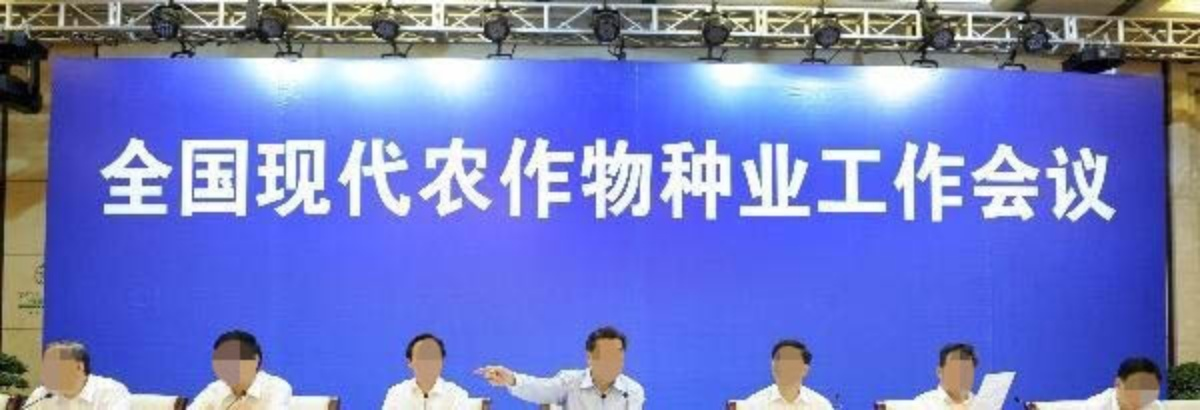text: (1105, 139, 1121, 225), (97, 139, 112, 225), (113, 139, 128, 225), (129, 139, 144, 225), (145, 139, 160, 225), (161, 139, 176, 225), (177, 139, 192, 225), (193, 139, 208, 225), (209, 139, 224, 225), (225, 139, 240, 225), (241, 139, 256, 225), (257, 139, 272, 225), (273, 139, 288, 225), (289, 139, 304, 225), (305, 139, 320, 225), (321, 139, 336, 225), (337, 139, 352, 225), (353, 139, 368, 225), (369, 139, 384, 225), (385, 139, 400, 225), (401, 139, 416, 225), (417, 139, 432, 225), (433, 139, 448, 225), (449, 139, 464, 225), (465, 139, 480, 225), (481, 139, 496, 225), (497, 139, 512, 225), (513, 139, 528, 225), (529, 139, 544, 225), (545, 139, 560, 225), (561, 139, 576, 225), (577, 139, 592, 225), (593, 139, 608, 225), (609, 139, 624, 225), (625, 139, 640, 225), (641, 139, 656, 225), (657, 139, 672, 225), (673, 139, 688, 225), (689, 139, 704, 225), (705, 139, 720, 225), (721, 139, 736, 225), (737, 139, 752, 225), (753, 139, 768, 225), (769, 139, 784, 225), (785, 139, 800, 225), (801, 139, 816, 225), (817, 139, 832, 225), (833, 139, 848, 225), (849, 139, 864, 225), (865, 139, 880, 225), (881, 139, 896, 225), (897, 139, 912, 225), (913, 139, 928, 225), (929, 139, 944, 225), (945, 139, 960, 225), (961, 139, 976, 225), (977, 139, 992, 225), (993, 139, 1008, 225), (1009, 139, 1024, 225), (1025, 139, 1040, 225), (1041, 139, 1056, 225), (1057, 139, 1072, 225), (1073, 139, 1088, 225), (1089, 139, 1104, 225)
